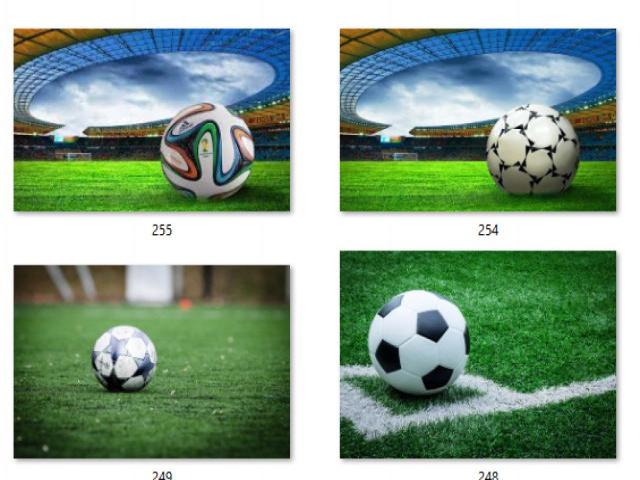round ball: (368, 291, 469, 394), (161, 103, 255, 199), (486, 104, 579, 194), (91, 325, 156, 391)
